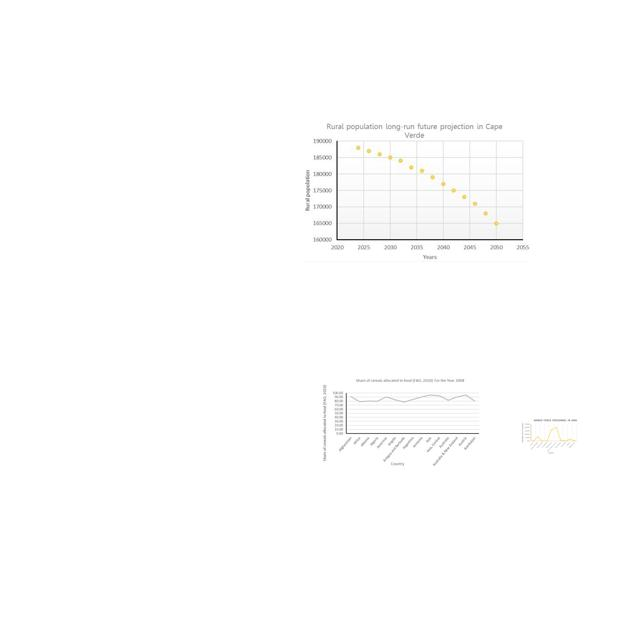Graph: (301, 121, 530, 262), (317, 374, 485, 468), (521, 418, 578, 455)
